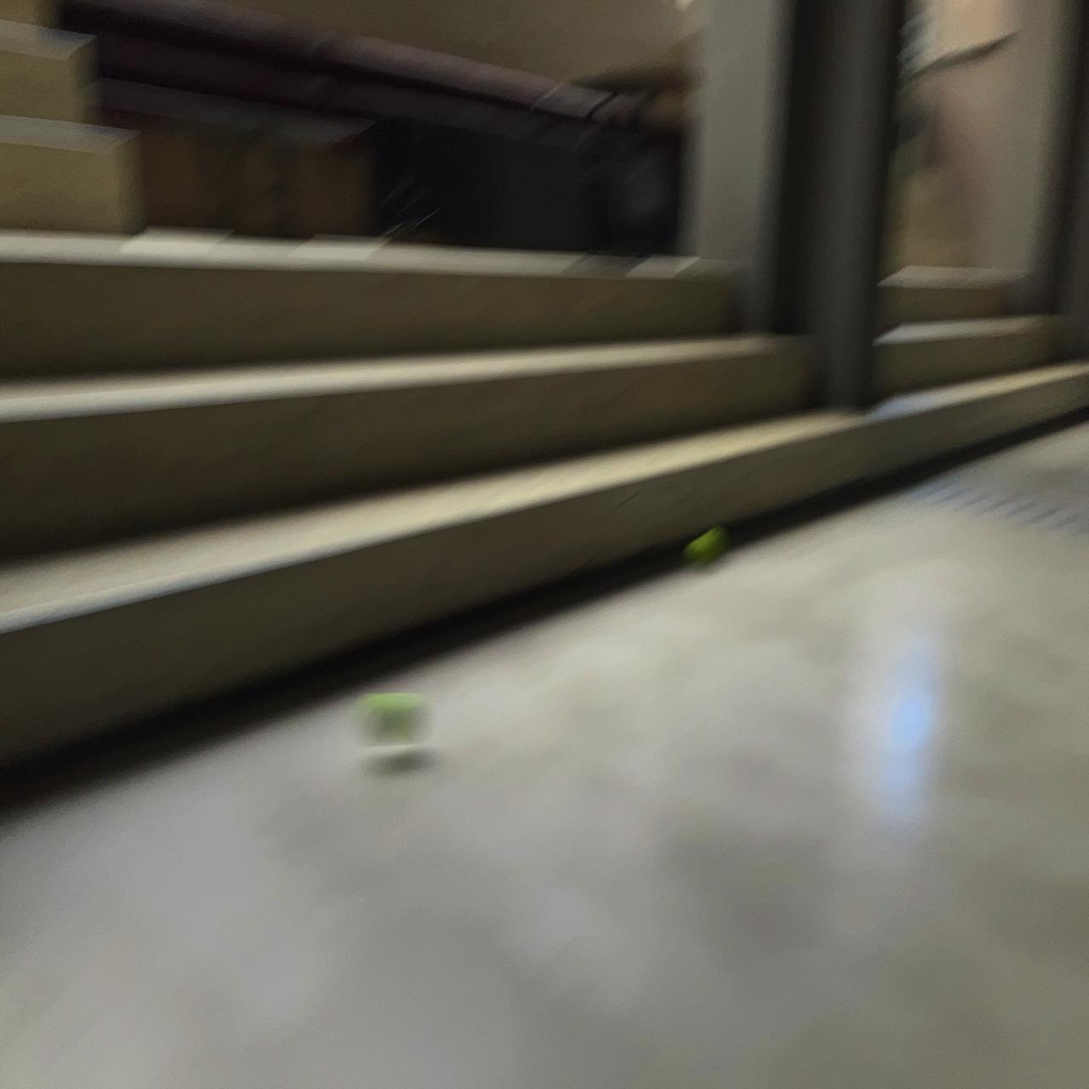tennisball: (357, 694, 430, 744), (684, 527, 729, 566)
